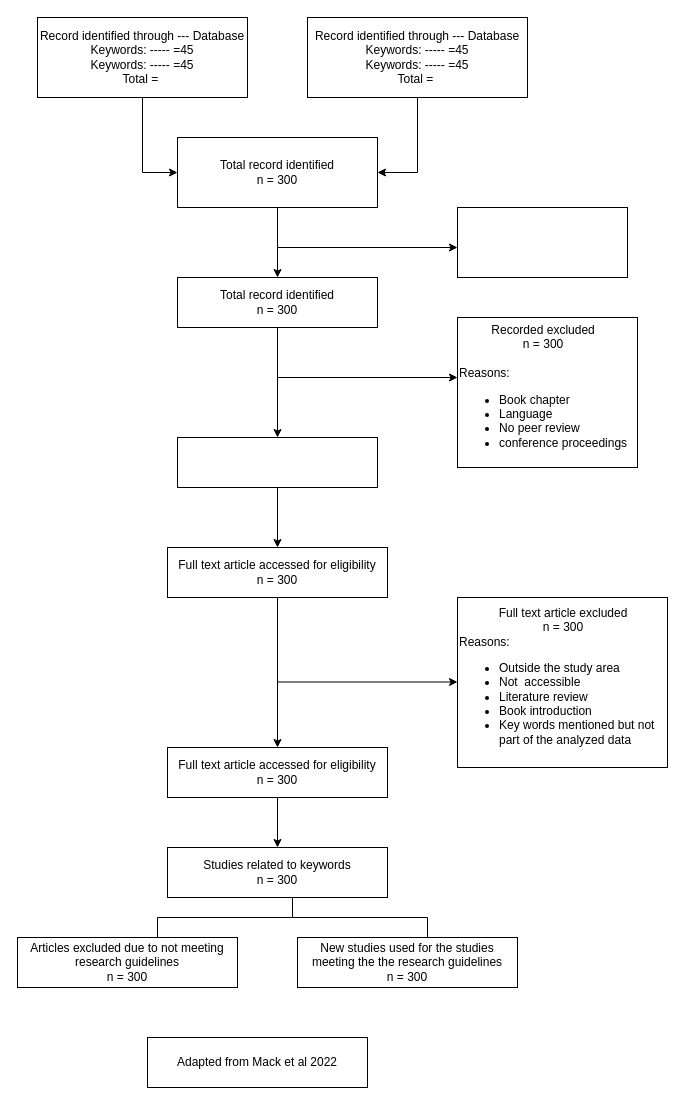
Some shapes in this 685 by 1105 pixel diagram are drawn without their labels. Here are the shapes that lost their labels. From the top down, the centre of each, then its label:
At (x=542, y=242): "Duplicated removed: n = 300".
At (x=277, y=462): "Total record screened n = 300".
